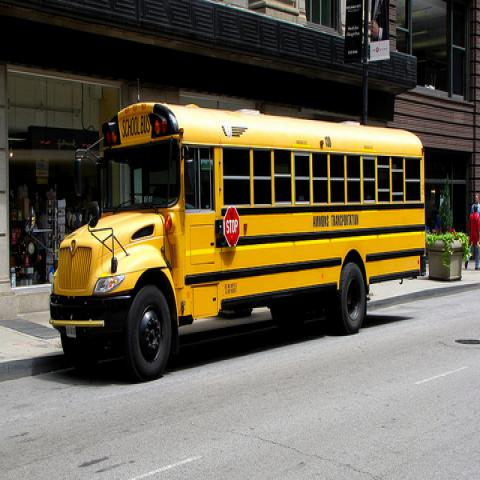bus: (48, 105, 426, 370)
